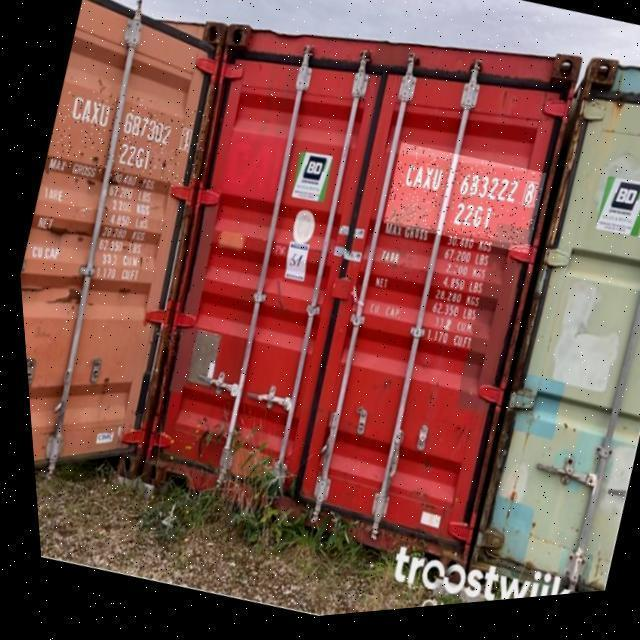container_number_h: (41, 73, 214, 206), (374, 140, 546, 273)
